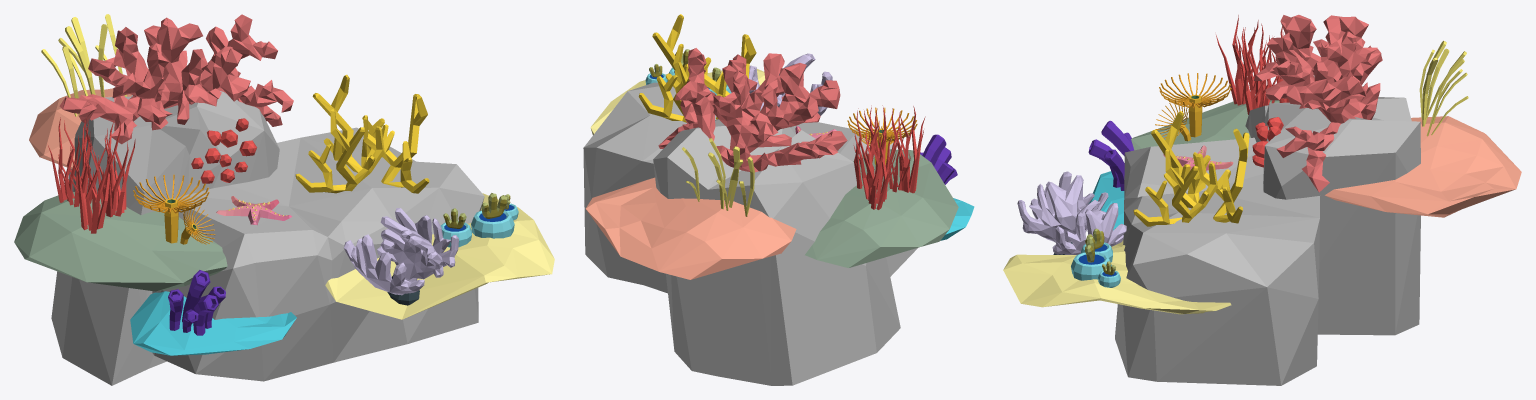
File: Coral_reef_005.glb
The picture shows the model from 3 angles, left to right: view 1: azimuth 30°, elevation 25°; view 2: azimuth 150°, elevation 25°; view 3: azimuth 270°, elevation 25°; orthographic projection. The views are drawn at different scales.
Parts seen in each view (by area): view 1: Coral_reef_005; view 2: Coral_reef_005; view 3: Coral_reef_005.
Part boxes in pixels (x1=…): Coral_reef_005: x1=14, y1=14, x2=554, y2=385; Coral_reef_005: x1=583, y1=14, x2=974, y2=385; Coral_reef_005: x1=1003, y1=14, x2=1521, y2=385.
Size of the model in its own units: 4.46 by 3.02 by 4.91.
1 material, 1 textured.
